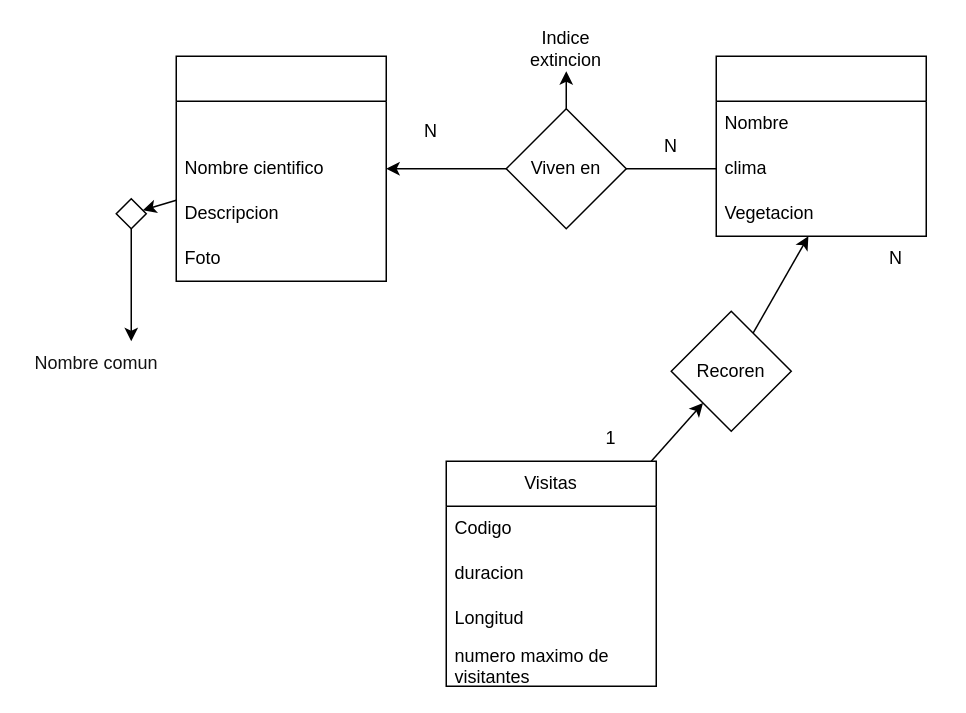
The diagram is 966 pixels wide and 713 high, and some of its shapes have lost their labels. Here are the shapes that lost their labels. From the top down, the box of each, then its label:
(715, 55, 926, 236): Habitats
(175, 55, 386, 281): Especies
